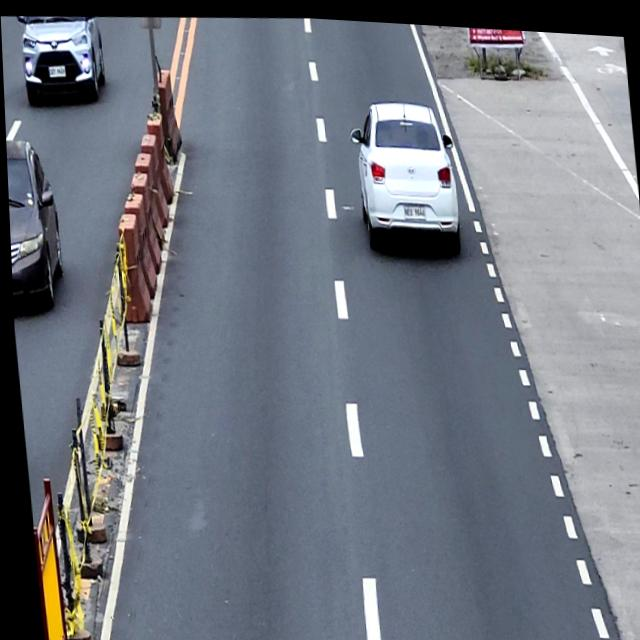Car: (348, 89, 462, 255), (5, 136, 66, 320), (16, 12, 108, 105)
License-Plate: (402, 198, 424, 216), (47, 65, 66, 77)
